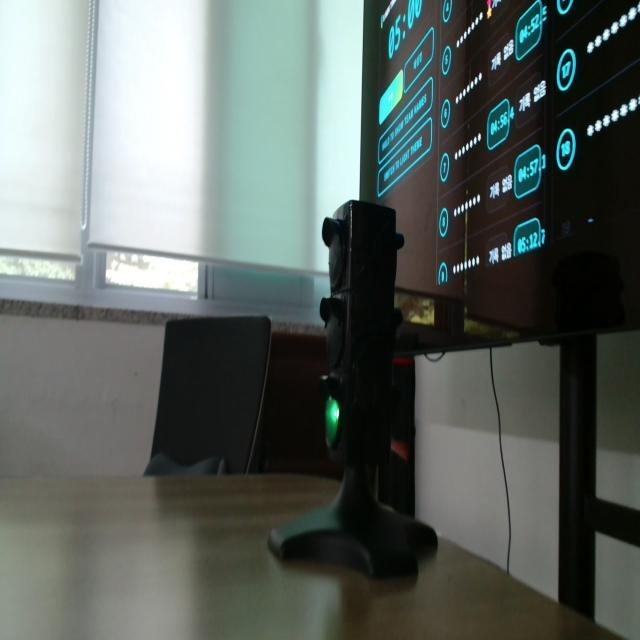green_light: (326, 398, 339, 446)
